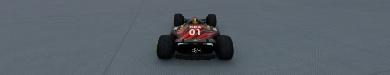Car: (156, 13, 233, 60)
Solid White and black: (96, 0, 147, 74)
grass: (0, 0, 389, 74)
